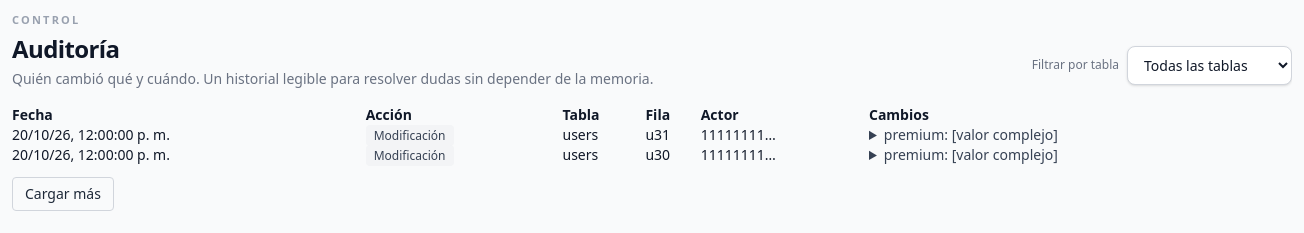
Test: AuditPage · ADM-10.2 (keyset, sin count) › «Cargar más» usa de cursor el id de la ÚLTIMA fila: la 2ª página pide estrictamente filas por debajo
Expected: the text "u31" is shown, [645, 124, 701, 144]
Step 1. Click the button "Cargar más" → x=63, y=194, box [12, 176, 114, 210]
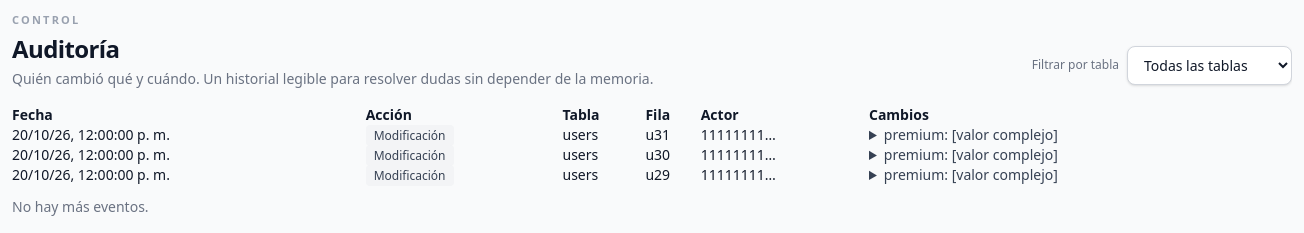
Expected: the text "u30" is shown, [645, 144, 701, 164]
Result: the text "u29" is shown at [645, 164, 701, 184]
Result: the text "No hay más eventos." is shown at [12, 196, 149, 216]
